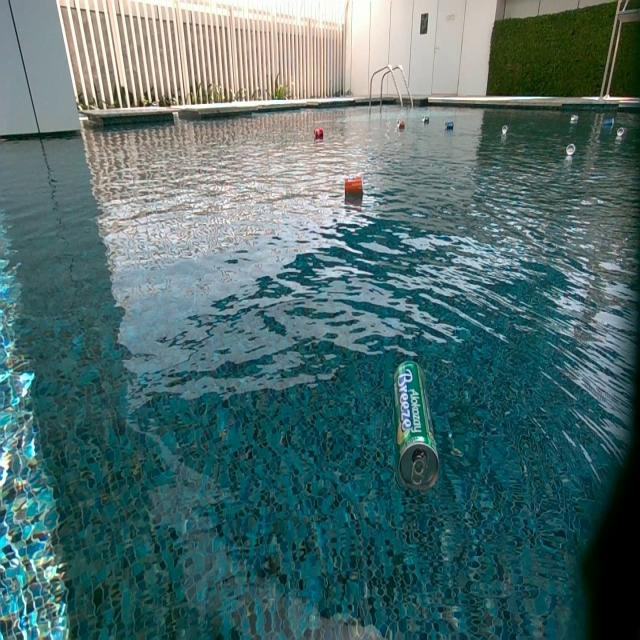Cans: (394, 357, 444, 488), (345, 175, 363, 193), (602, 117, 614, 128), (314, 128, 324, 141), (565, 143, 575, 155), (617, 128, 627, 139), (445, 120, 455, 130), (569, 114, 579, 123), (396, 119, 404, 130), (500, 125, 508, 135), (423, 116, 430, 124)
